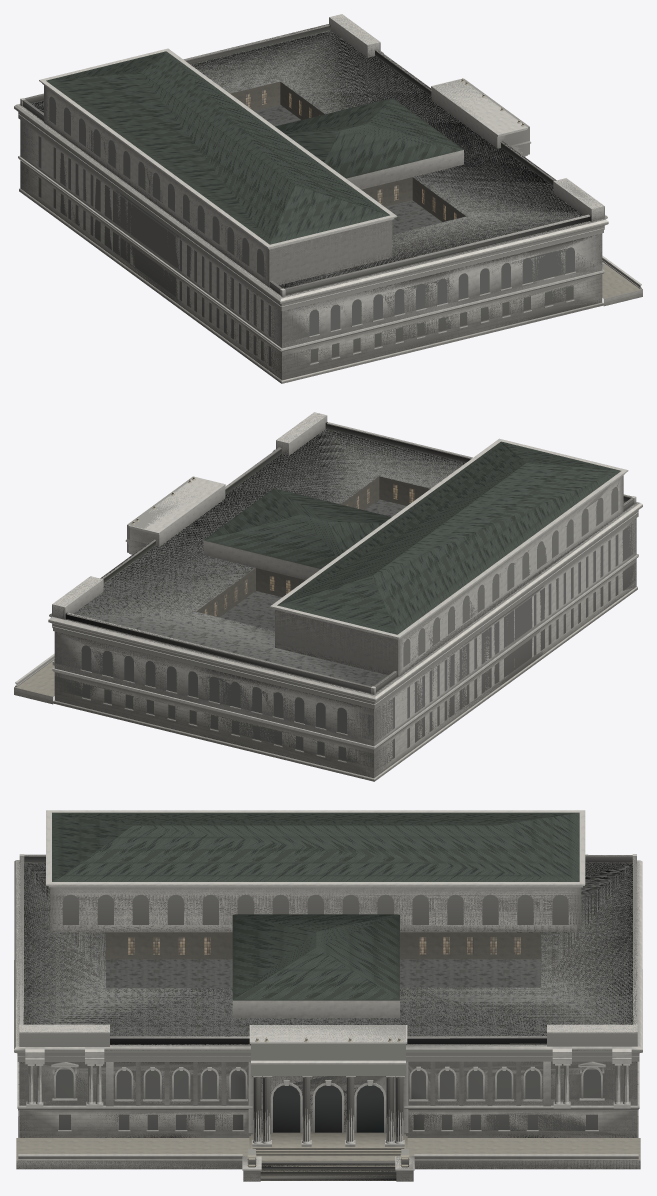
The model's file is library_front.glb.
3 views of the same model, one above another, from view 1: azimuth 30°, elevation 25°; view 2: azimuth 150°, elevation 25°; view 3: azimuth 270°, elevation 25° (orthographic). The views are drawn at different scales.
Parts seen in each view (by area): view 1: library_front, library_front_far; view 2: library_front, library_front_far; view 3: library_front, library_front_far.
Part boxes in pixels (<box>): library_front: <box>14,14,642,383</box>; library_front_far: <box>14,14,608,379</box>; library_front: <box>14,412,642,781</box>; library_front_far: <box>48,412,642,776</box>; library_front: <box>14,810,642,1181</box>; library_front_far: <box>14,854,642,1181</box>.
Bounding box in the file's own units: 95.8 × 35 × 115.
Materials: 7 (6 with a texture image).
